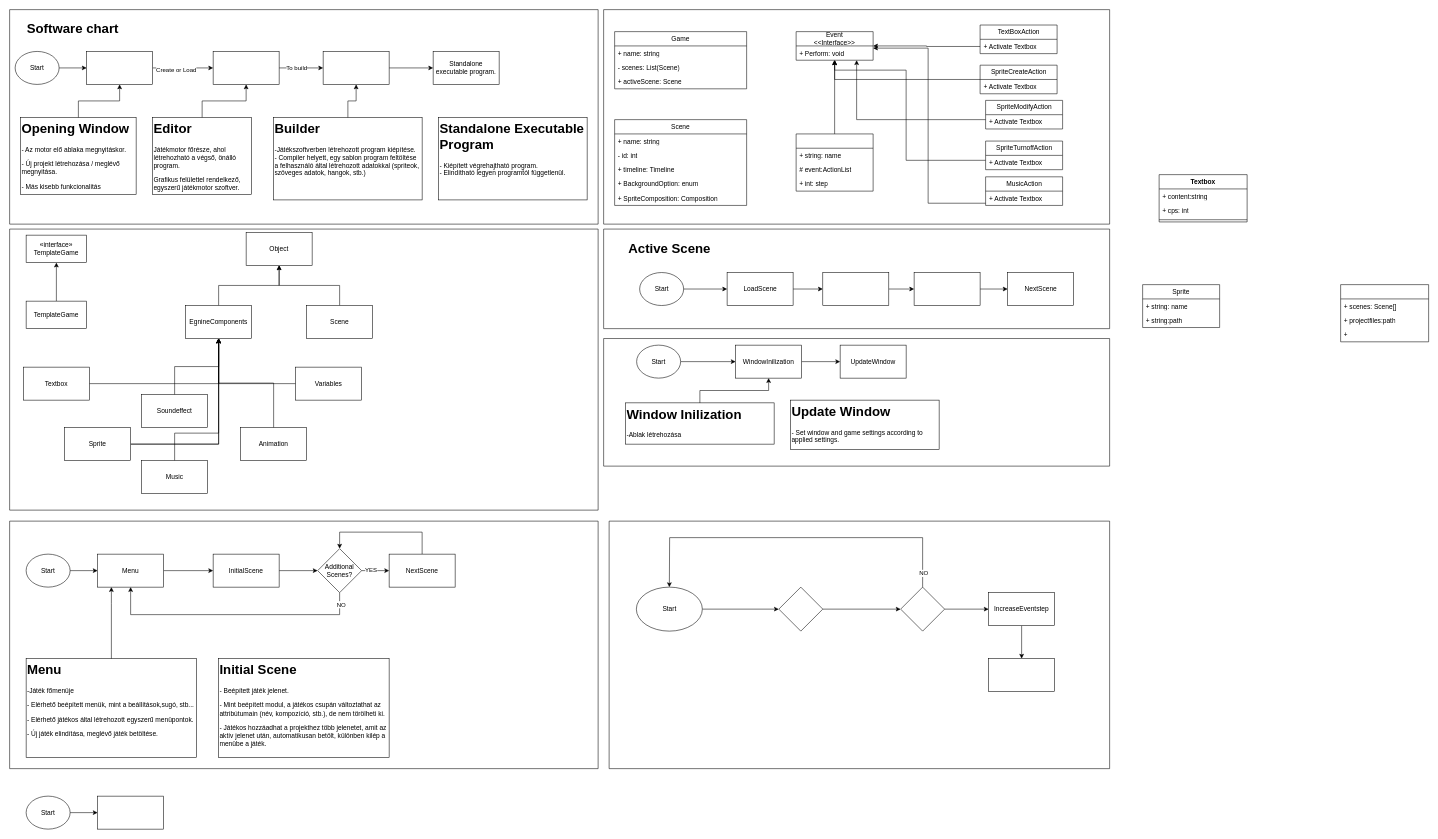
Some shapes in this 1438 by 839 pixel diagram are drawn without their labels. The shapes that lost their labels are listed below. From the top down, each one's box as (x1, y1, x2, y2) in pixels, then its label:
(86, 51, 153, 84): Opening window
(213, 51, 279, 84): Engine Editor
(323, 51, 389, 84): Builder
(796, 133, 873, 191): Timeline
(822, 272, 889, 306): PlayScene
(914, 272, 980, 306): ExitScene
(1340, 284, 1429, 342): Editor
(778, 587, 823, 631): Input
(900, 587, 945, 631): Should increase event?
(988, 658, 1055, 692): Perform
(97, 796, 164, 829): Sceneloaded
